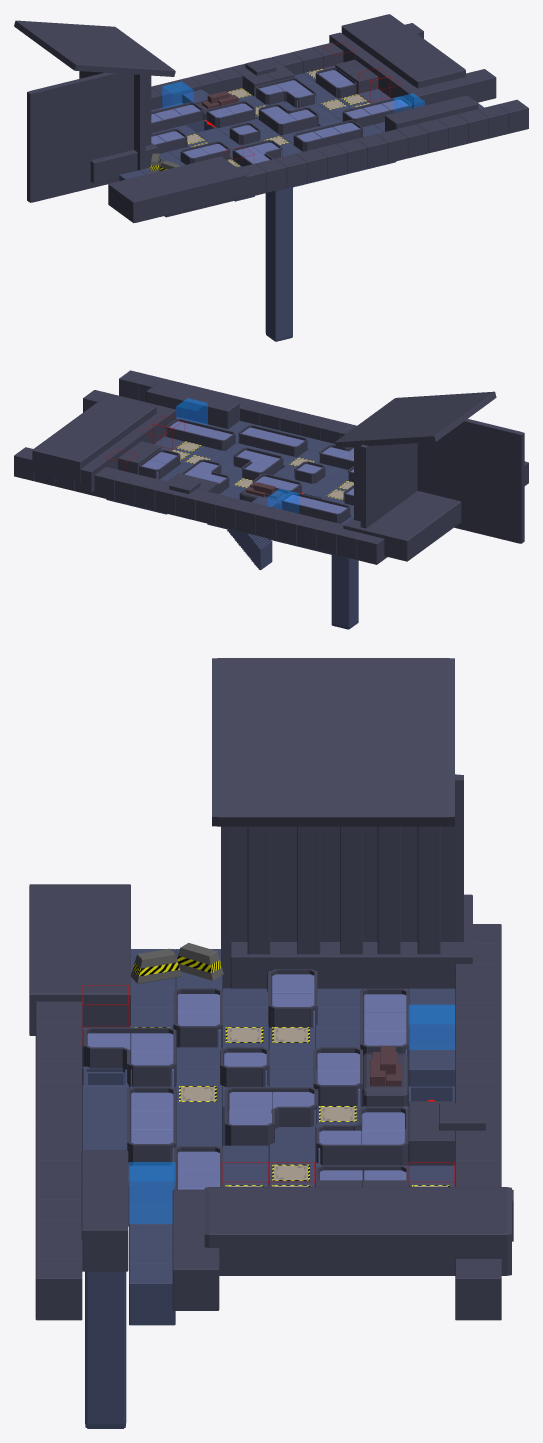
Rendered from qwq.fbx.
3 renders of one model, top to bottom at view 1: azimuth 30°, elevation 25°; view 2: azimuth 150°, elevation 25°; view 3: azimuth 270°, elevation 25°, orthographic. The views are drawn at different scales.
Visible parts, largest first — view 1: 立方体_316, 立方体_306, 立方体_315, 立方体_310, 立方体_66, 立方体_314, 立方体_67, 立方体_309, 立方体_269, 立方体_136, 立方体_156, 立方体_299 (+28 smaller); view 2: 立方体_316, 立方体_310, 立方体_315, 立方体_299, 立方体_298, 立方体_269, 立方体_309, 立方体_65, 立方体_136, 立方体_156, 立方体_281, 立方体_67 (+32 smaller); view 3: 立方体_315, 立方体_310, 立方体_298, 立方体_306, 立方体_291, 立方体_64, 立方体_269, 立方体_314, 立方体_156, 立方体_136, 立方体_296, 立方体_295 (+61 smaller).
Part boxes in pixels (<box>): 立方体_316: <box>27,72,133,202</box>; 立方体_306: <box>108,156,246,223</box>; 立方体_315: <box>14,20,175,76</box>; 立方体_310: <box>341,14,465,88</box>; 立方体_66: <box>275,187,292,341</box>; 立方体_314: <box>402,69,496,108</box>; 立方体_67: <box>265,191,275,341</box>; 立方体_309: <box>329,32,415,98</box>; 立方体_269: <box>385,95,478,131</box>; 立方体_136: <box>258,104,318,135</box>; 立方体_156: <box>256,77,316,107</box>; 立方体_299: <box>90,146,152,183</box>; 立方体_316: <box>417,419,524,543</box>; 立方体_310: <box>32,394,156,482</box>; 立方体_315: <box>335,391,496,448</box>; 立方体_299: <box>348,491,461,561</box>; 立方体_298: <box>360,443,417,528</box>; 立方体_269: <box>146,383,239,428</box>; 立方体_309: <box>80,413,167,492</box>; 立方体_65: <box>332,555,348,629</box>; 立方体_136: <box>233,448,283,480</box>; 立方体_156: <box>181,459,229,493</box>; 立方体_281: <box>357,534,387,564</box>; 立方体_67: <box>348,558,358,629</box>; 立方体_315: <box>212,658,454,826</box>; 立方体_310: <box>204,1187,511,1275</box>; 立方体_298: <box>221,774,463,988</box>; 立方体_306: <box>29,884,130,1035</box>; 立方体_291: <box>230,937,472,988</box>; 立方体_64: <box>86,1271,124,1428</box>; 立方体_269: <box>81,1150,128,1271</box>; 立方体_314: <box>172,1189,219,1310</box>; 立方体_156: <box>316,1106,408,1165</box>; 立方体_136: <box>224,1087,317,1145</box>; 立方体_296: <box>297,826,320,954</box>; 立方体_295: <box>417,826,440,954</box>.
Size of the model in its own units: 4443 by 2793 by 2078.
12 materials, 4 textured.
